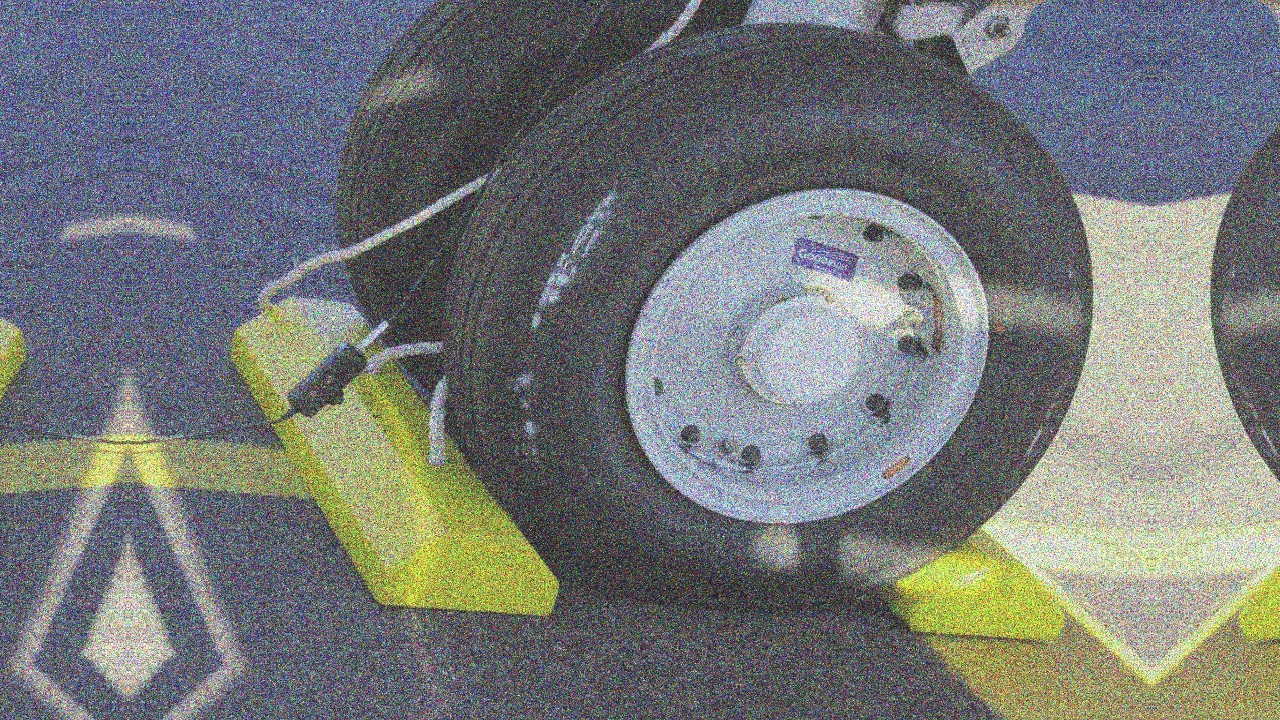chock: (179, 264, 618, 637), (752, 370, 1108, 655), (0, 264, 77, 637), (1196, 370, 1280, 655)
wheel: (397, 0, 1147, 663), (307, 0, 759, 406), (1157, 0, 1280, 663)
